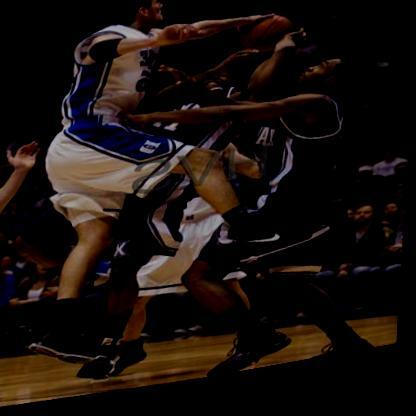basketball: (238, 17, 298, 68)
